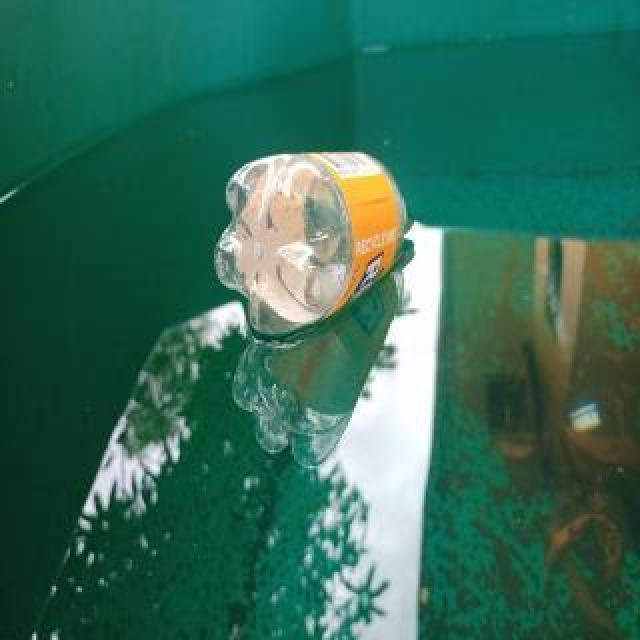bottle: (208, 143, 416, 345)
